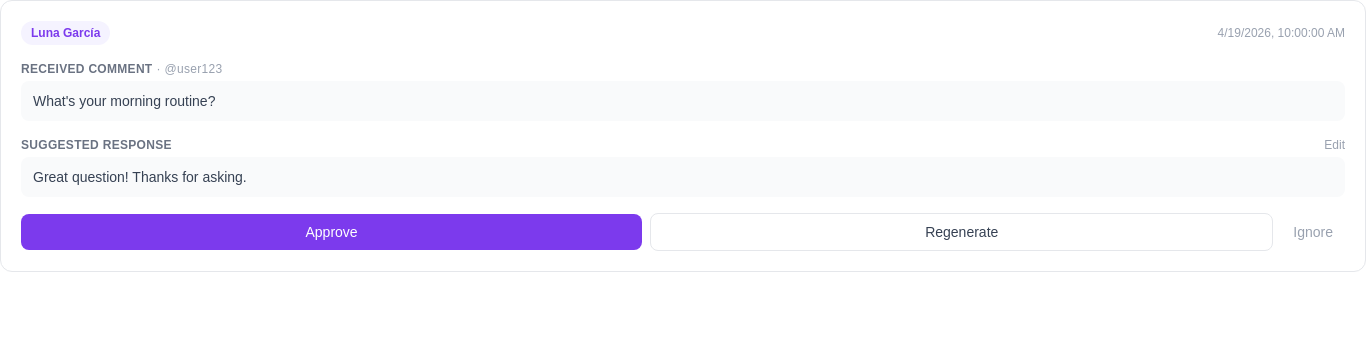
Test: ApprovalCard › approve action › shows error message when approve fails
Click the button "Approve". click: (332, 232)
box: [21,214,642,250]
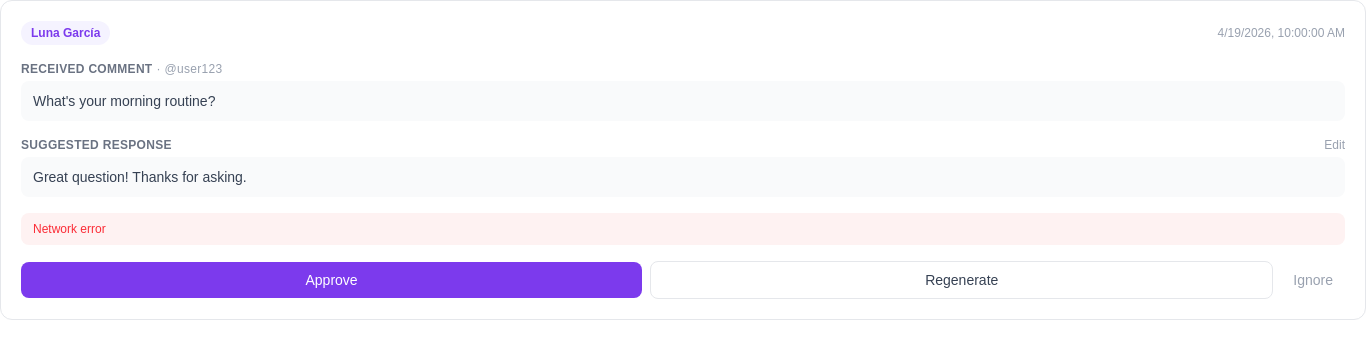
Result: the text "Network error" is shown at [21,213,1345,245]
